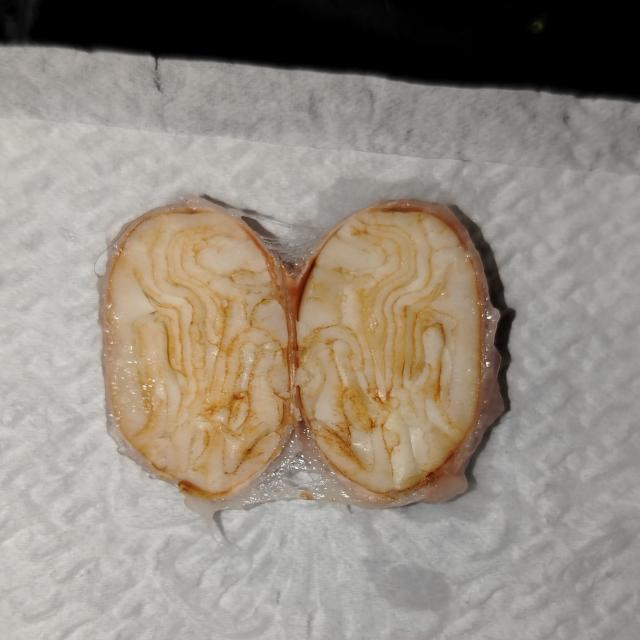Criollo: (298, 216, 506, 516), (98, 208, 296, 503)
